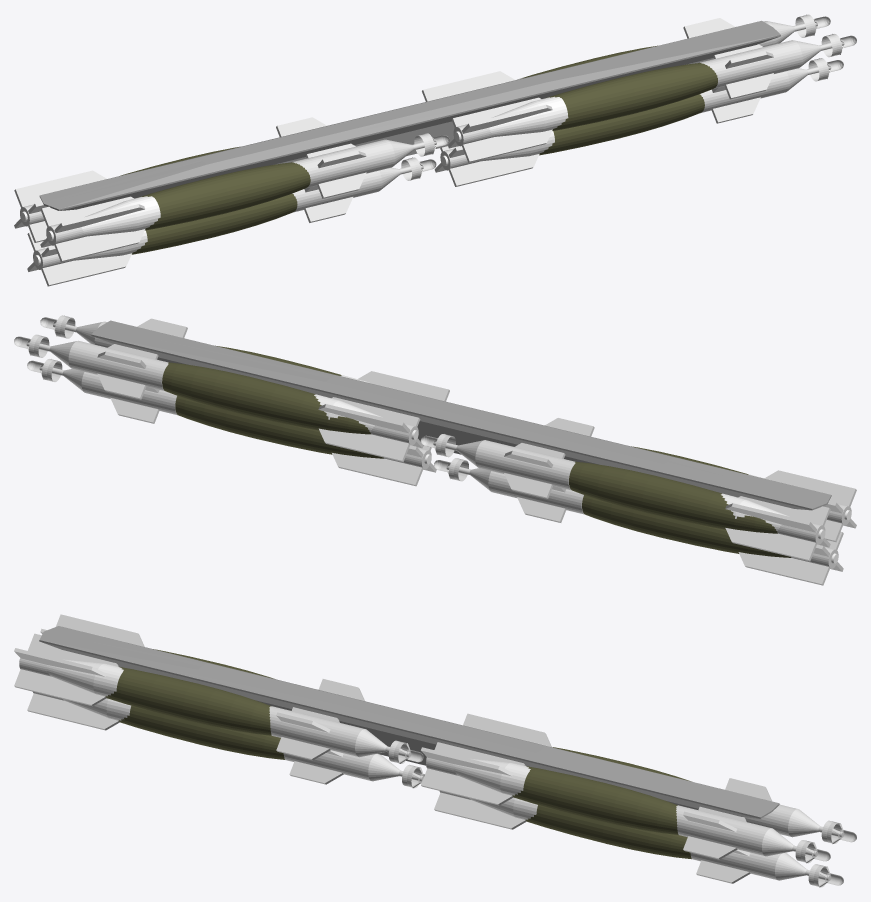
File: f15egbu127.glb
3 renders of one model, top to bottom at view 1: azimuth 30°, elevation 25°; view 2: azimuth 150°, elevation 25°; view 3: azimuth 330°, elevation 25°, orthographic.
Parts seen in each view (by area): view 1: 立方体.022, 円柱.029, 円柱.032, 円柱.031, 円柱.034, 円柱.033, 円柱.030; view 2: 立方体.022, 円柱.030, 円柱.033, 円柱.031, 円柱.034, 円柱.032, 円柱.029; view 3: 立方体.022, 円柱.029, 円柱.032, 円柱.034, 円柱.031, 円柱.033, 円柱.030.
Part boxes in pixels (x1,y1,x2,y2): 立方体.022: (39, 20, 780, 210); 円柱.029: (40, 133, 449, 262); 円柱.032: (448, 34, 856, 162); 円柱.031: (27, 157, 436, 286); 円柱.034: (434, 58, 843, 186); 円柱.033: (422, 14, 830, 101); 円柱.030: (14, 117, 326, 242); 立方体.022: (91, 320, 831, 510); 円柱.030: (420, 434, 830, 561); 円柱.033: (14, 334, 423, 462); 円柱.031: (434, 458, 843, 585); 円柱.034: (27, 359, 436, 486); 円柱.032: (40, 315, 449, 401); 円柱.029: (545, 418, 856, 542); 立方体.022: (39, 626, 779, 818); 円柱.029: (14, 633, 423, 763); 円柱.032: (421, 742, 830, 863); 円柱.034: (434, 791, 843, 887); 円柱.031: (27, 691, 424, 788); 円柱.033: (463, 713, 856, 843); 円柱.030: (40, 614, 364, 700).
Bounding box in the file's own units: 7.44 × 0.699 × 0.7797.
Materials: 4 (1 with a texture image).
